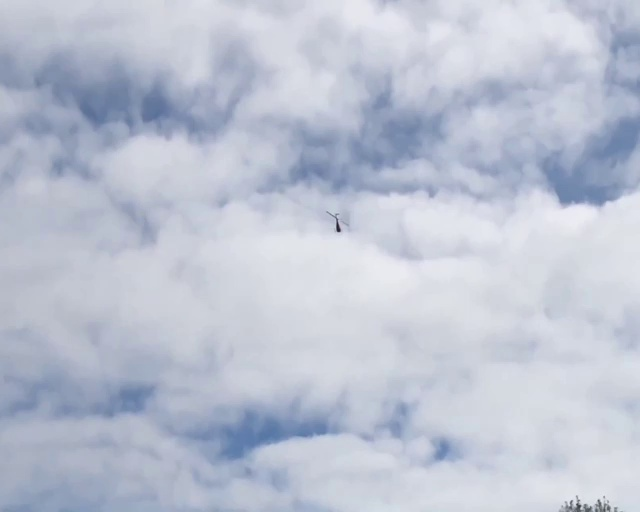HELICOPTER: (325, 210, 349, 232)
